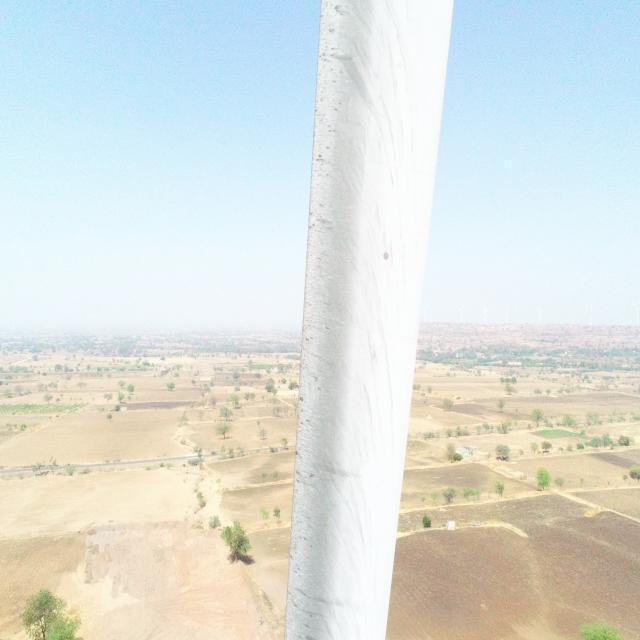Dirt: (281, 0, 455, 639)
